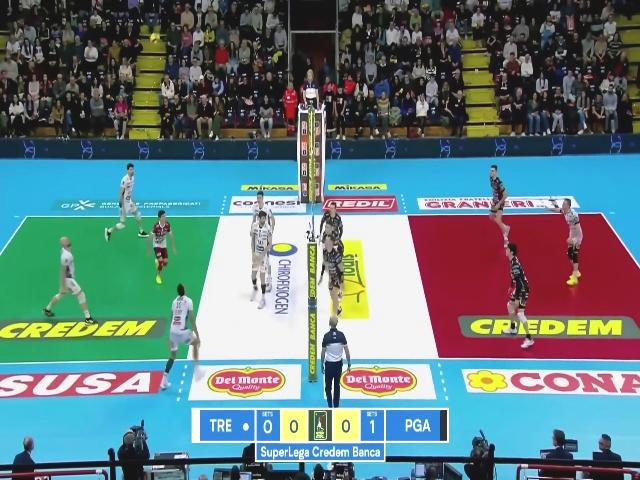volleyball court: (0, 210, 639, 365)
